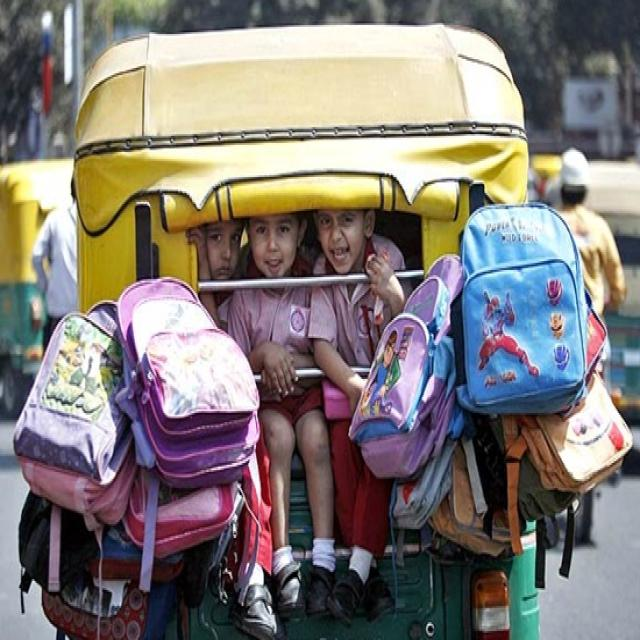autorickshaw: (15, 25, 633, 640)
